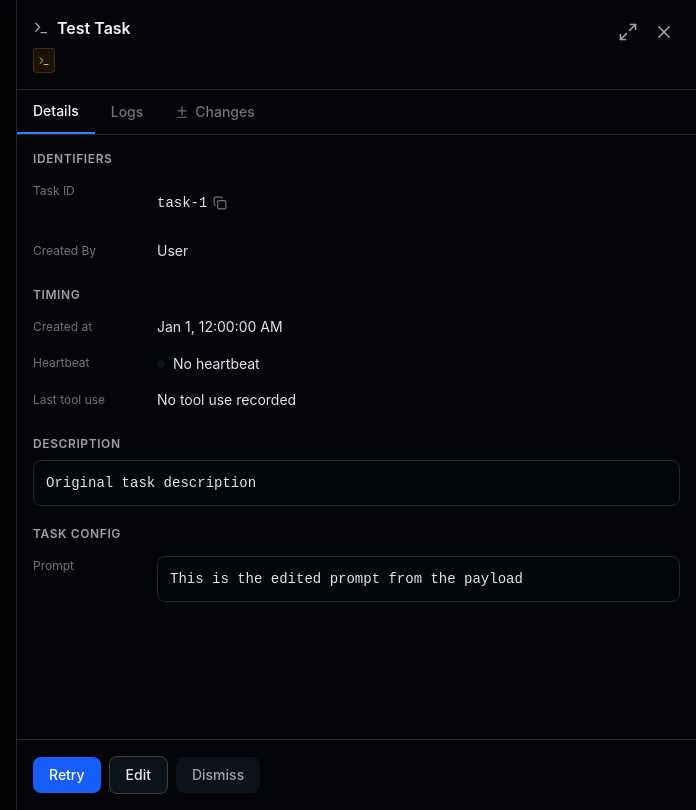
Test: TaskDetailDrawer › edit prompt editor seeds from the current payload prompt after a prior edit
The width and height of the screenshot is (696, 810).
Note: Click the Edit button to open the prompt editor
What coordinates should you click on to do the following:
click the button "Edit"
I would click on:
 (138, 775)
Its box is [109,756,168,794].
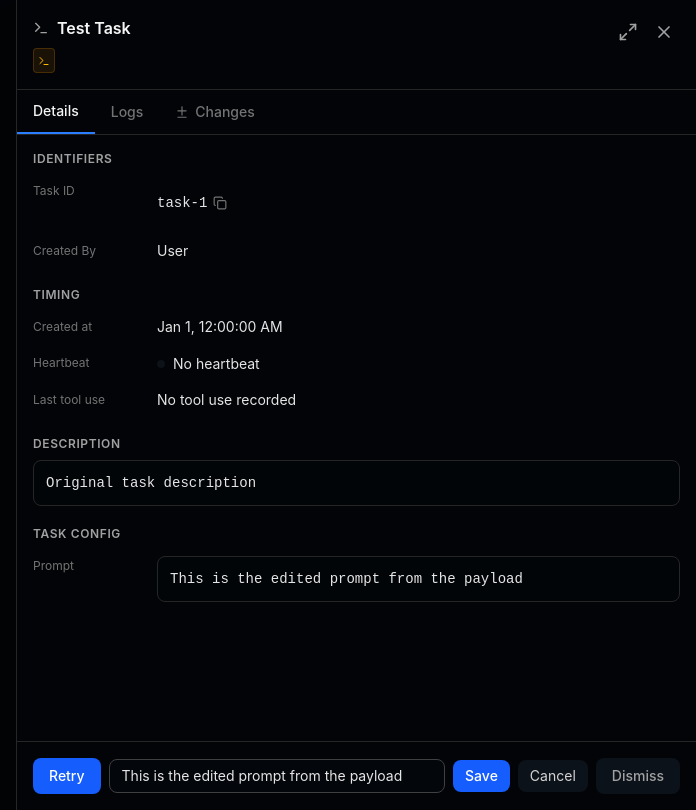
Expected: the field showing "This is the edited prompt from the payload" holds "This is the edited prompt from the payload", [109,759,445,793]
Expected: the field showing "This is the edited prompt from the payload" does not hold "Original task description", [109,759,445,793]
